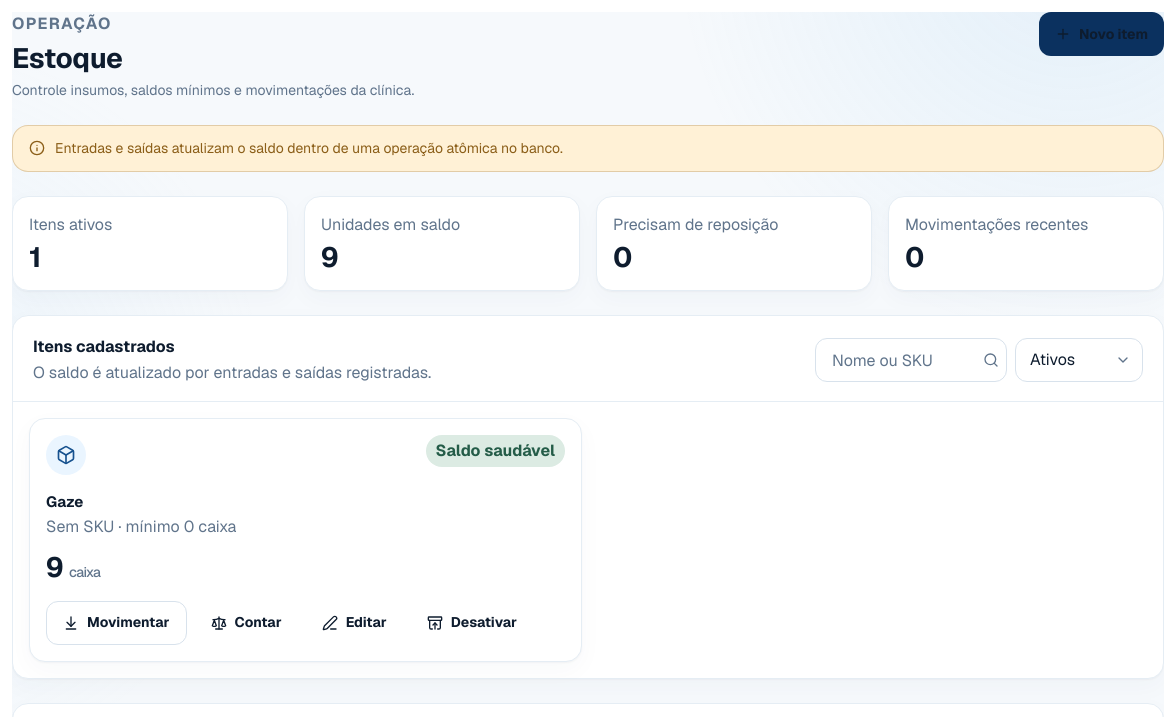
Scenario: itens que precisam de reposição › nada para repor não vira "nenhum item encontrado"
Select "Repor" in the dropdown named "Filtro" at (1079, 360), box [1015,338,1143,382]
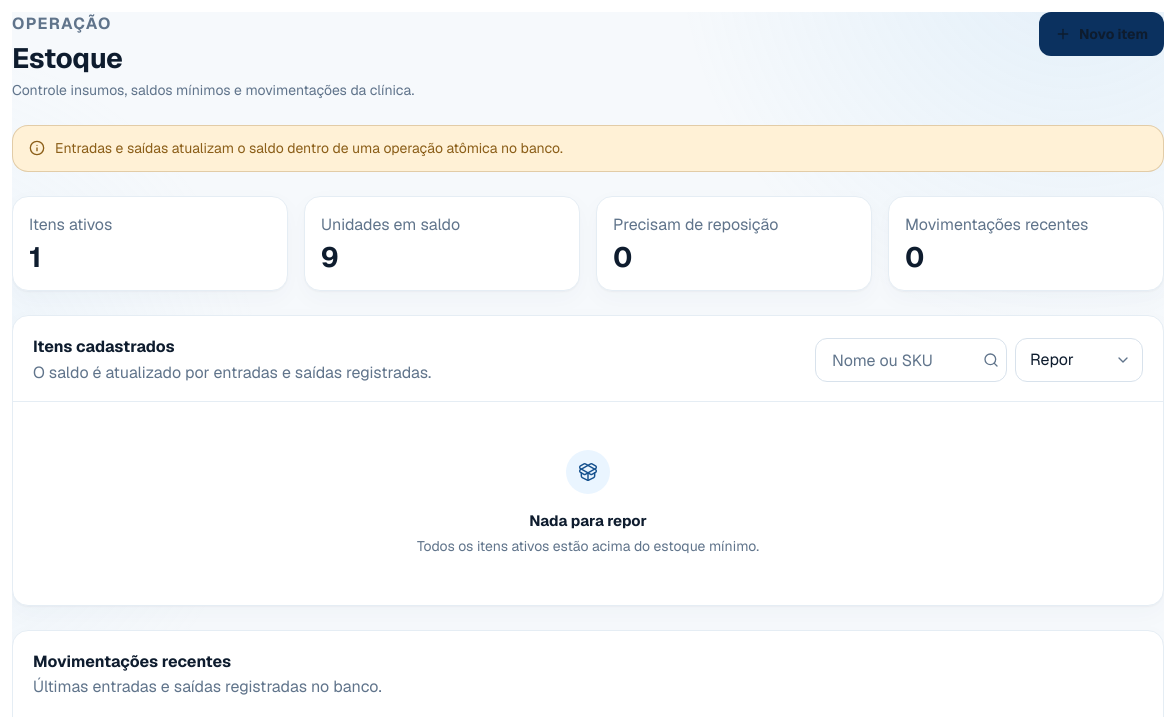
Expected: the text "Nada para repor" is shown, [529,510,647,532]
